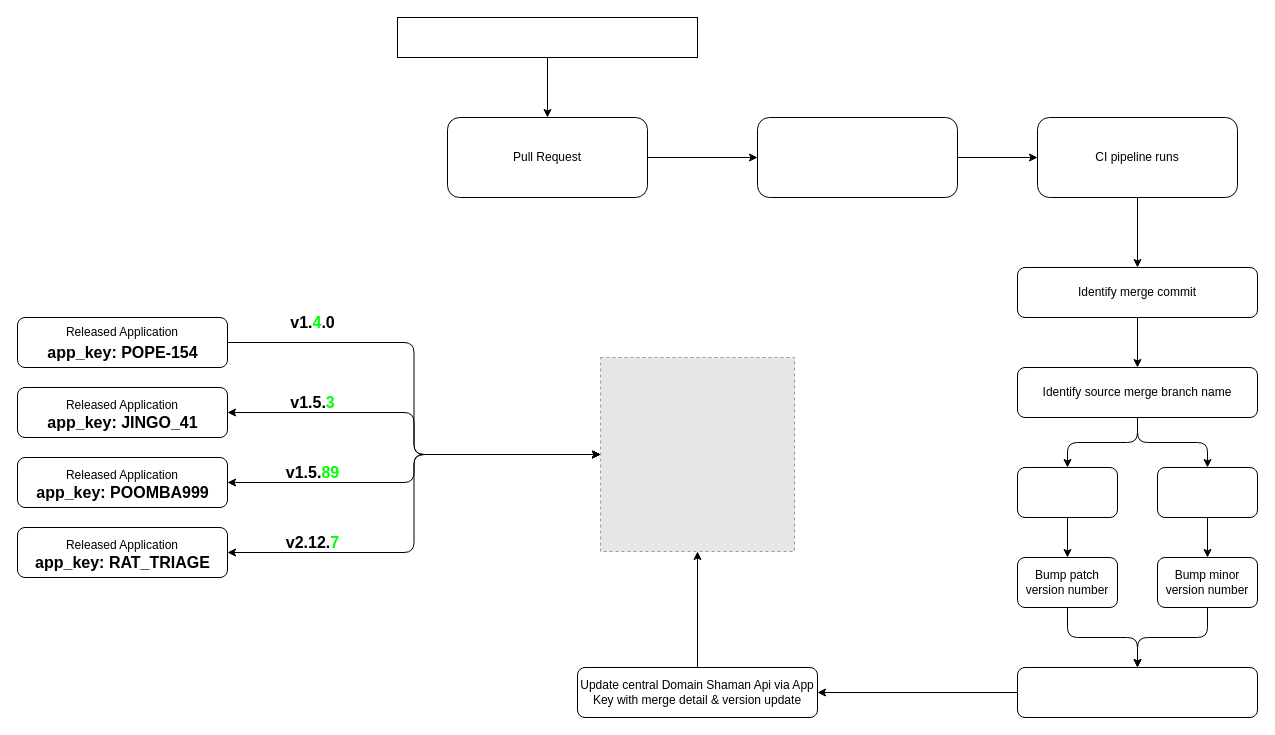
Image size: 1275x735. Some labels were removed from this diagram. Grey dashed boxes stand in for pictures. Here are the shapes that lost their labels. From the top down, the centre of each, then its label:
pixel 547 37: feature/rem-0420-implement-O(1)-Pope-Sort
pixel 857 157: Merge to main
pixel 1067 492: is {bugfix}
pixel 1207 492: is {feature}
pixel 1137 692: Create new tag : release/v6.0.12
